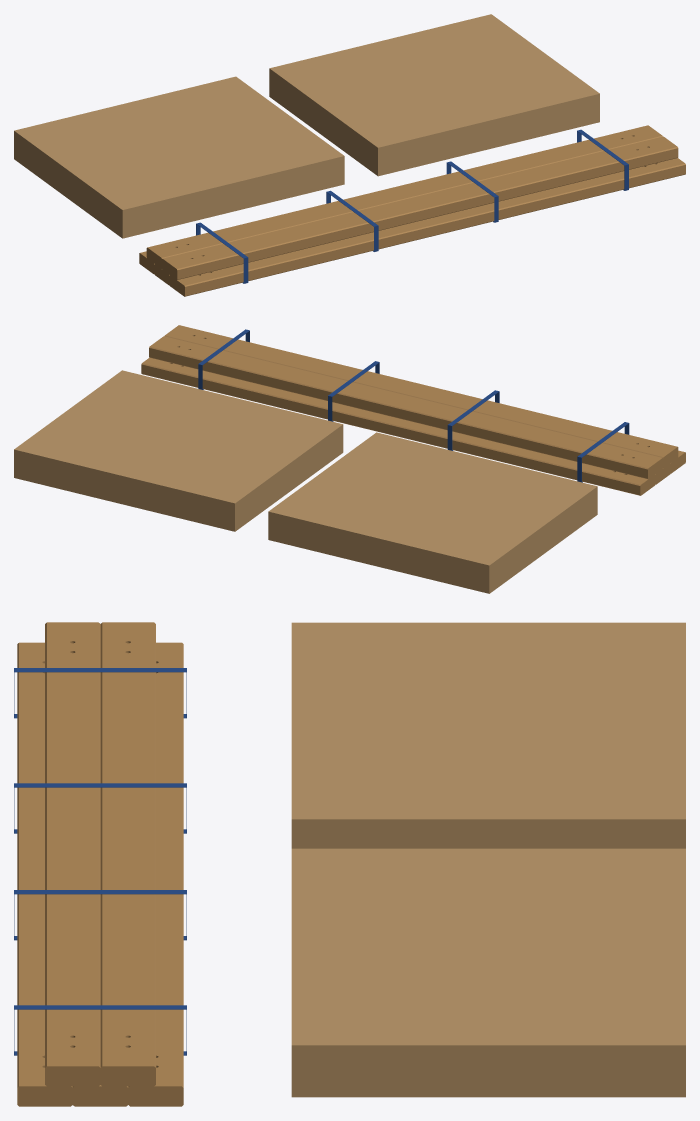
The model's file is serra180_parcels.glb.
The picture shows the model from 3 angles, top to bottom: view 1: azimuth 30°, elevation 25°; view 2: azimuth 150°, elevation 25°; view 3: azimuth 270°, elevation 25°; orthographic projection. The views are drawn at different scales.
Visible parts, largest first — view 1: carton_1, carton_2, bundle_slat_3, bundle_slat_0, bundle_slat_4, strap_0.12, strap_0.62; view 2: carton_1, carton_2, bundle_slat_4, bundle_slat_2, bundle_slat_3, strap_0.38, strap_0.12, strap_0.62, strap_0.88; view 3: carton_2, carton_1, bundle_slat_3, bundle_slat_4, bundle_slat_0, bundle_slat_2, bundle_slat_1, strap_0.38, strap_0.88, strap_0.12, strap_0.62.
Boxes of the visible parts, x1,y1,x2,y2 form: carton_1: (14, 76, 344, 238); carton_2: (269, 14, 599, 176); bundle_slat_3: (162, 136, 678, 279); bundle_slat_0: (169, 158, 685, 296); bundle_slat_4: (146, 125, 662, 268); strap_0.12: (196, 222, 248, 283); strap_0.62: (446, 161, 498, 222); carton_1: (268, 432, 597, 593); carton_2: (14, 370, 343, 531); bundle_slat_4: (149, 336, 663, 479); bundle_slat_2: (141, 357, 655, 495); bundle_slat_3: (164, 325, 678, 467); strap_0.38: (447, 390, 499, 450); strap_0.12: (577, 422, 629, 482); strap_0.62: (328, 361, 379, 421); strap_0.88: (198, 329, 249, 389); carton_2: (291, 848, 685, 1097); carton_1: (291, 622, 685, 848); bundle_slat_3: (45, 622, 100, 1086); bundle_slat_4: (100, 622, 155, 1086); bundle_slat_0: (17, 642, 72, 1106); bundle_slat_2: (128, 642, 183, 1106); bundle_slat_1: (72, 1085, 128, 1106); strap_0.38: (14, 783, 186, 833); strap_0.88: (14, 1005, 186, 1055); strap_0.12: (14, 668, 186, 718); strap_0.62: (14, 890, 186, 940).
Size of the model in its own units: 1.8 by 0.0988 by 1.15.
